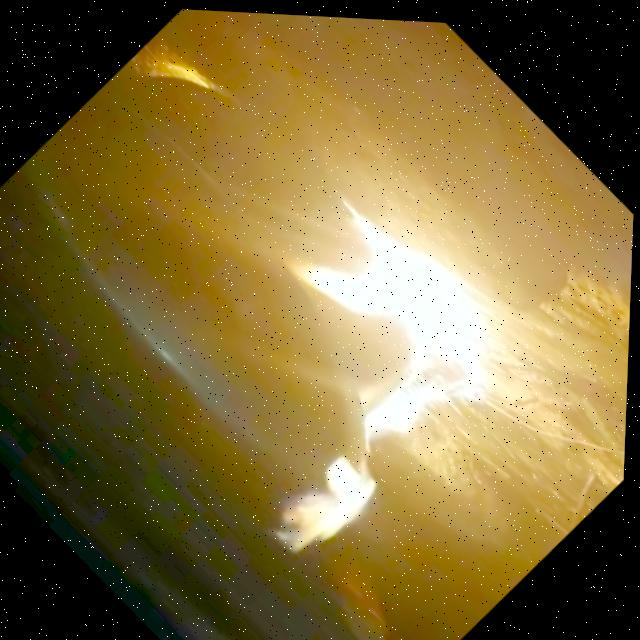Fire: (134, 161, 551, 586)
